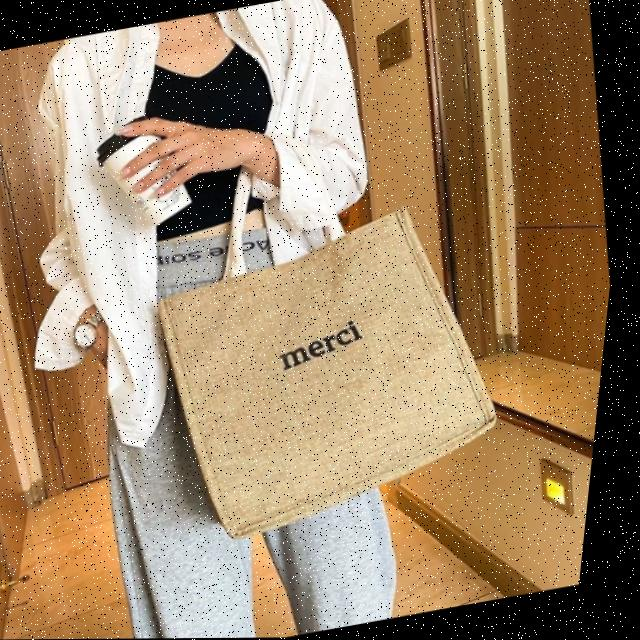ecobag: (84, 131, 551, 571)
